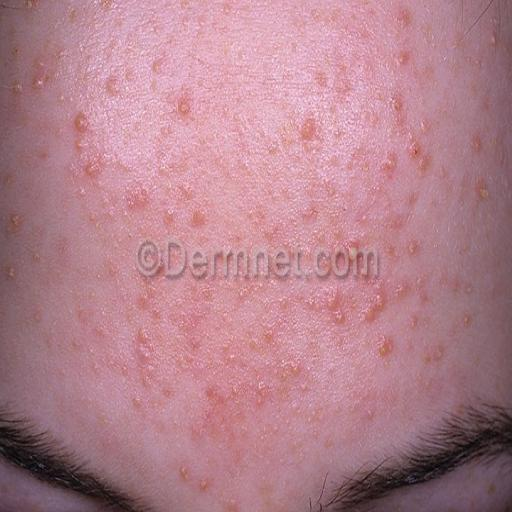Skin_Lesion: (171, 181, 214, 246), (319, 30, 358, 100), (361, 270, 388, 325), (151, 126, 186, 168), (166, 1, 197, 47), (401, 236, 428, 288), (274, 278, 297, 337), (118, 183, 152, 222), (321, 280, 347, 328), (281, 353, 310, 396), (463, 174, 492, 214), (76, 150, 106, 188), (246, 370, 273, 412), (192, 276, 215, 325), (97, 71, 130, 104), (171, 82, 196, 122), (131, 322, 157, 359), (296, 114, 324, 148), (0, 253, 23, 294), (197, 470, 221, 509), (24, 60, 46, 101), (296, 199, 329, 224), (2, 199, 24, 236), (73, 289, 96, 324), (233, 275, 254, 313), (376, 329, 394, 363), (403, 305, 422, 337), (442, 44, 464, 71), (128, 383, 146, 415), (388, 87, 406, 118), (483, 274, 504, 300), (396, 5, 414, 35), (71, 109, 89, 136), (380, 156, 398, 183), (424, 342, 443, 367), (407, 134, 424, 160), (468, 76, 486, 98), (480, 86, 495, 112), (471, 132, 487, 156), (99, 0, 121, 17), (179, 461, 193, 484), (21, 0, 41, 16), (396, 44, 410, 66), (486, 477, 499, 500), (12, 75, 24, 99), (475, 46, 488, 67), (451, 32, 466, 50), (420, 118, 434, 136), (439, 162, 451, 182), (488, 31, 500, 49)
